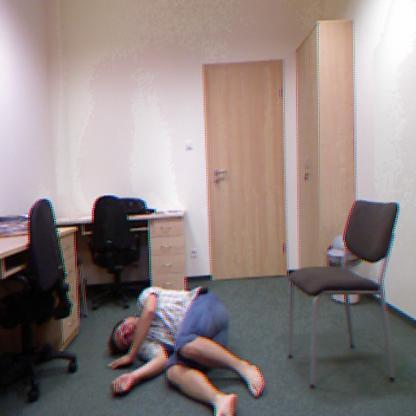fall: (109, 283, 268, 416)
